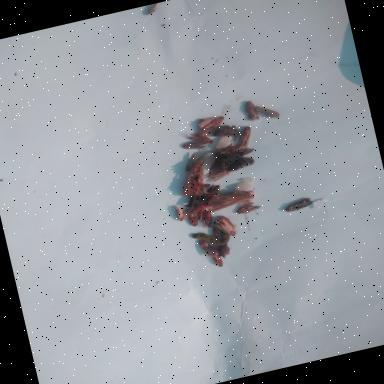abw: (205, 187, 257, 211)
pbw: (176, 126, 215, 153), (230, 126, 258, 152), (212, 214, 238, 241), (283, 196, 315, 216), (256, 100, 282, 124), (180, 152, 204, 174), (181, 138, 209, 156), (242, 98, 260, 123), (235, 200, 260, 216), (200, 210, 216, 232), (208, 250, 225, 270), (198, 237, 214, 256), (186, 211, 200, 229), (195, 204, 208, 222), (174, 206, 188, 222)
